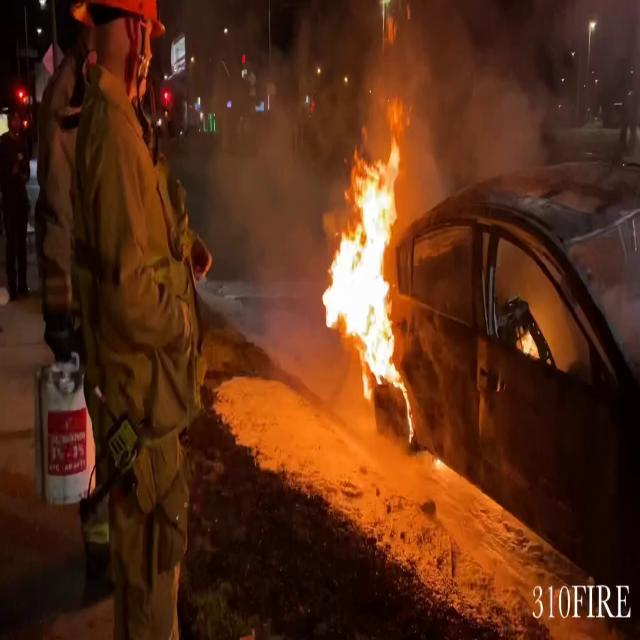Fire: (315, 118, 418, 430)
Smoke: (204, 3, 348, 334), (390, 1, 572, 198)
